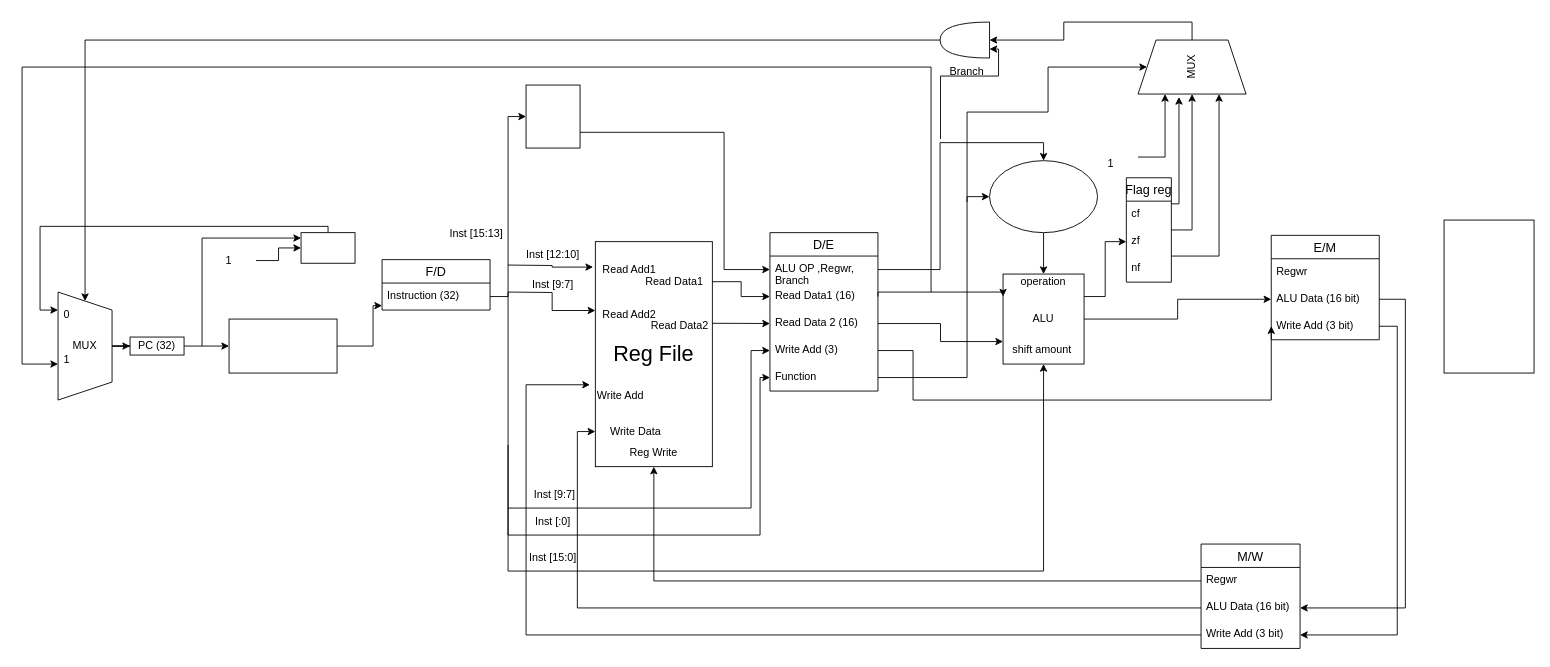
This 1550x667 diagram has some shape labels left out. The shapes that lost their labels are listed below. From the top down, each one's centre as x and y in pixels, then its label:
(x=552, y=116): CU
(x=1043, y=196): ALU Control
(x=327, y=247): ADD
(x=1488, y=296): Data Memory (16 bit)
(x=282, y=345): Code Memory
